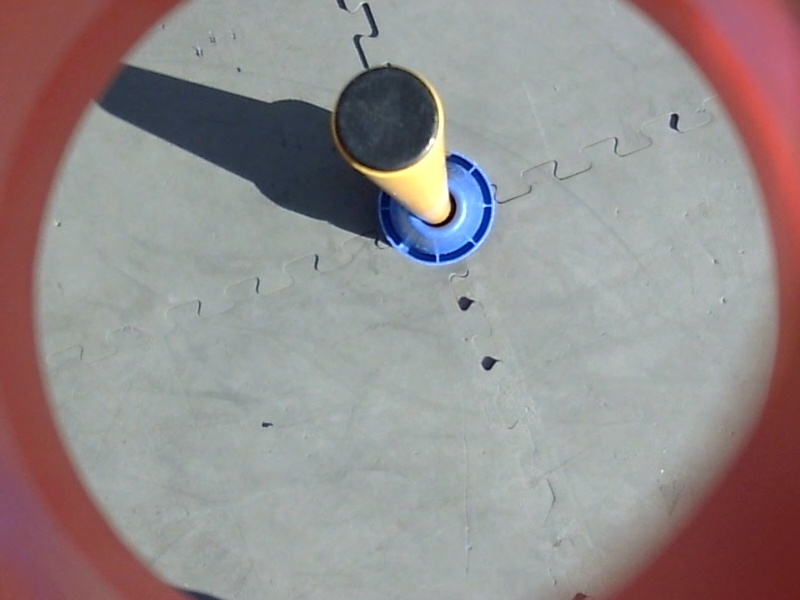tip: (325, 61, 450, 180)
